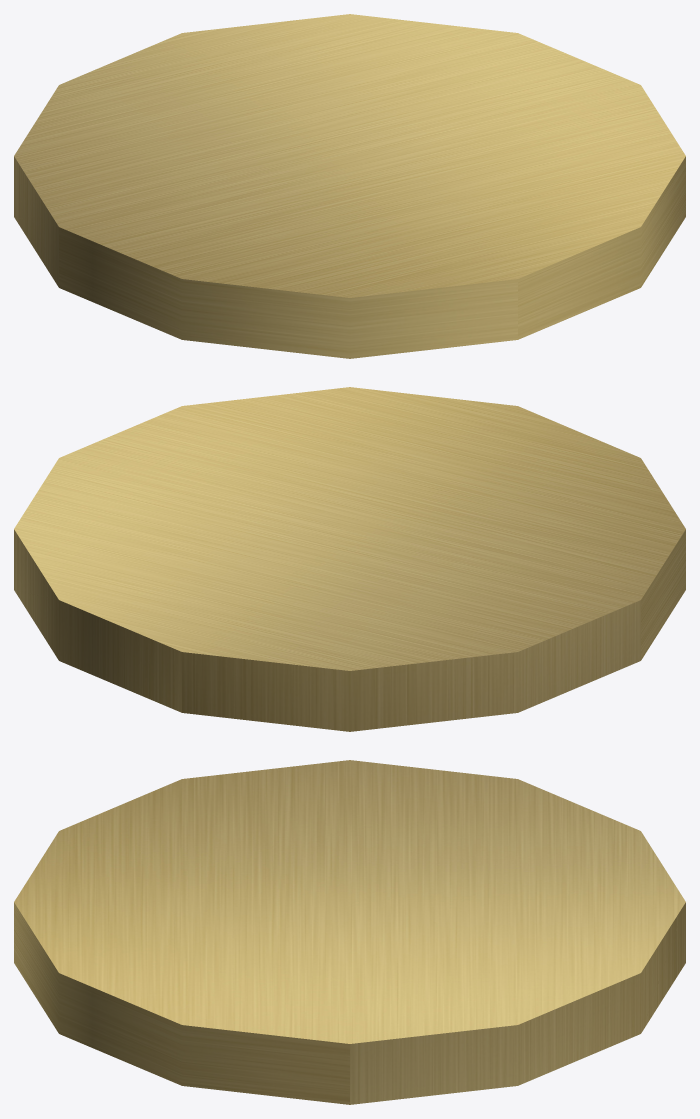
File: TT_MonetaA_002.FBX
3 renders of one model, top to bottom at view 1: azimuth 30°, elevation 25°; view 2: azimuth 150°, elevation 25°; view 3: azimuth 270°, elevation 25°, orthographic.
Parts seen in each view (by area): view 1: MonetaA_001; view 2: MonetaA_001; view 3: MonetaA_001.
Boxes of the visible parts, box(x1,y1,x2,y2) form: MonetaA_001: box(14, 14, 685, 358); MonetaA_001: box(14, 387, 685, 731); MonetaA_001: box(14, 760, 685, 1104).
Size of the model in its own units: 1.57 by 0.1575 by 1.57.
1 material, 1 textured.
